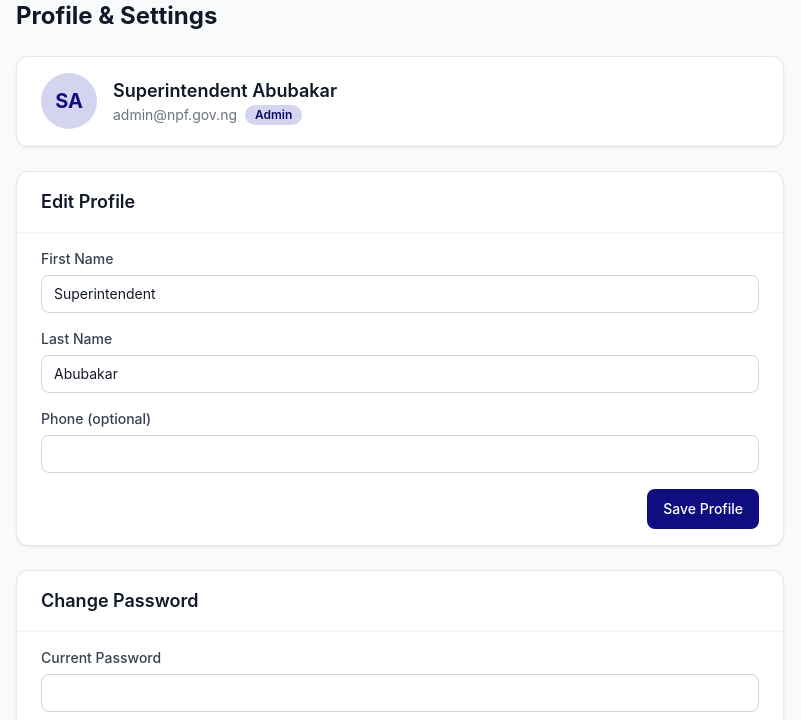
Scenario: ProfileSettingsPage › shows mismatch error when passwords differ
Check: the heading "Change Password" is shown, box 41,590 -> 198,611
Type "oldpassword" into the password field labelled "Current Password". click: (400, 693)
box: 41,674 -> 759,712
(page scrolled)
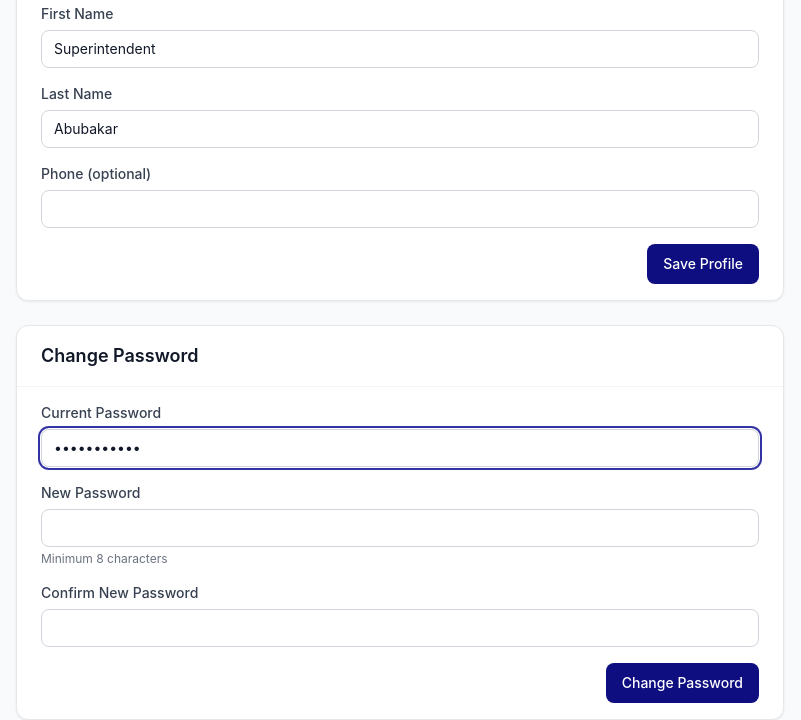
Type "newpassword1" into the password field labelled "New Password". click: (400, 528)
box: 41,509 -> 759,547
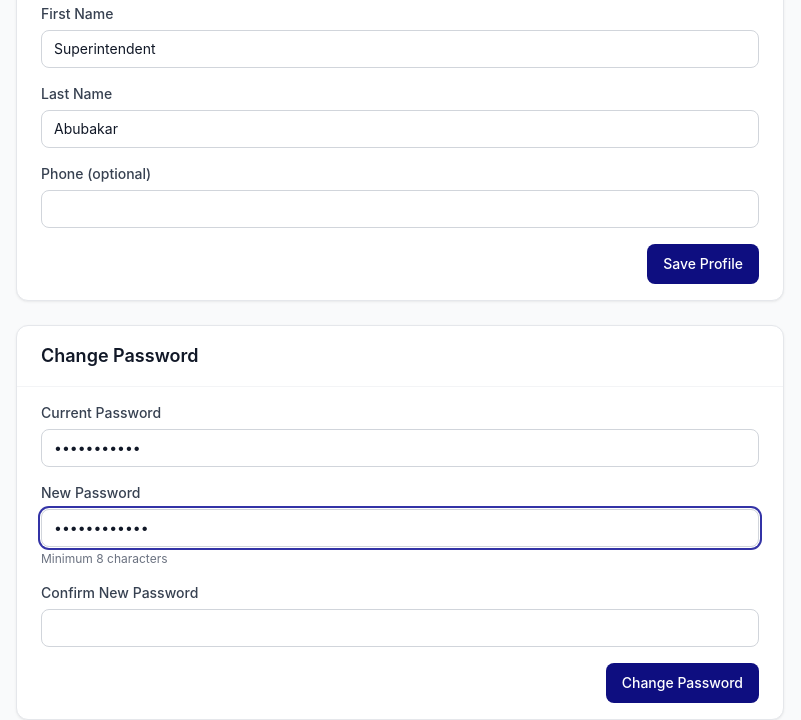
Type "different1" into the password field labelled "Confirm New Password". click: (400, 628)
box: 41,609 -> 759,647
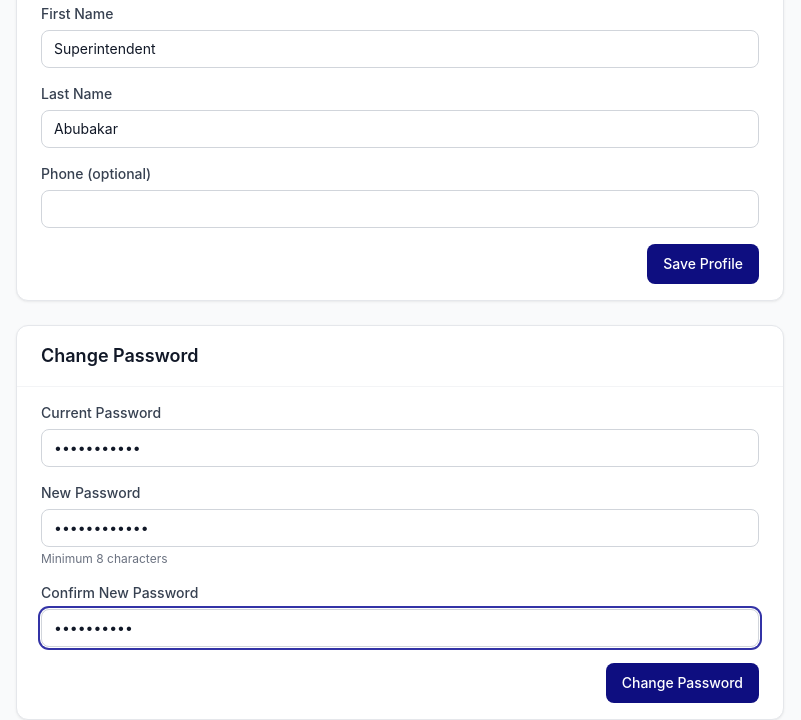
Click the button "Change Password". click: (682, 683)
box: 606,663 -> 759,703
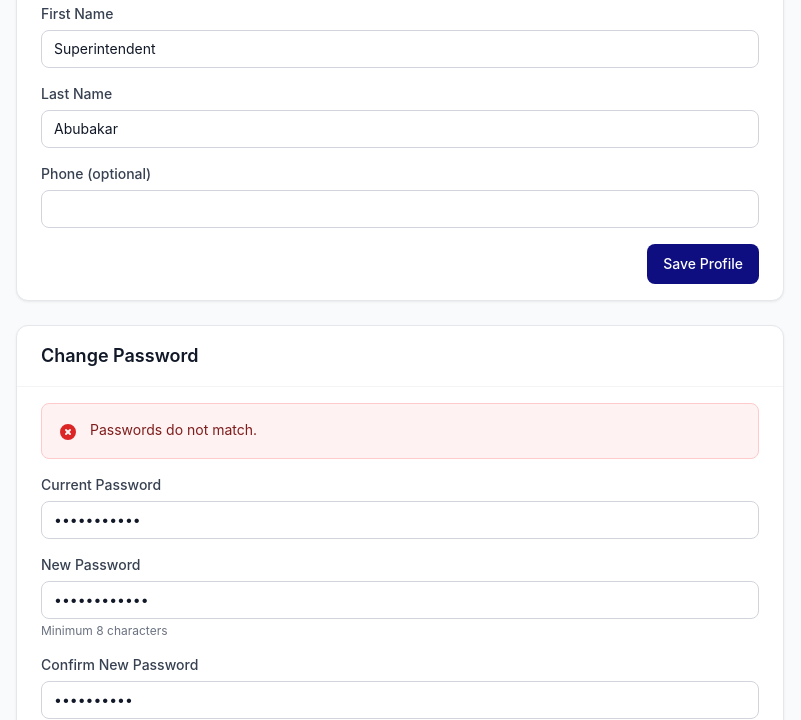
Check: the text "Passwords do not match." is shown, box 90,421 -> 257,438
